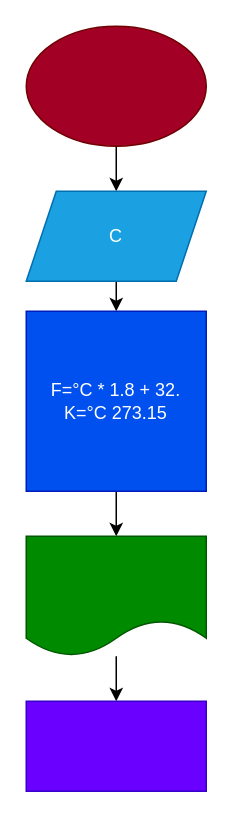
Image size: 233x818. Some labels were removed from this diagram. The shapes that lost their labels are listed below. From the top down, each one's centre as x and y in pixels, then its label:
At pixel 115 85: "INICIO".
At pixel 115 595: "F.K".
